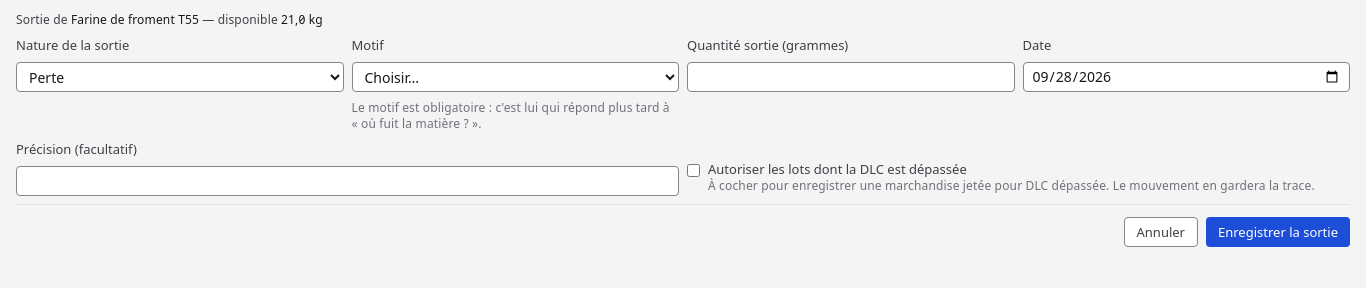
SaisieSortie — refus de saisie : aucun appel réseau ne part sur un formulaire incomplet › le refus de motif est bien atteignable — mais par Ctrl+S, pas par le bouton
Type "500" into the field labelled "Quantité sortie (grammes)" at (851, 77), box [687, 62, 1014, 92]
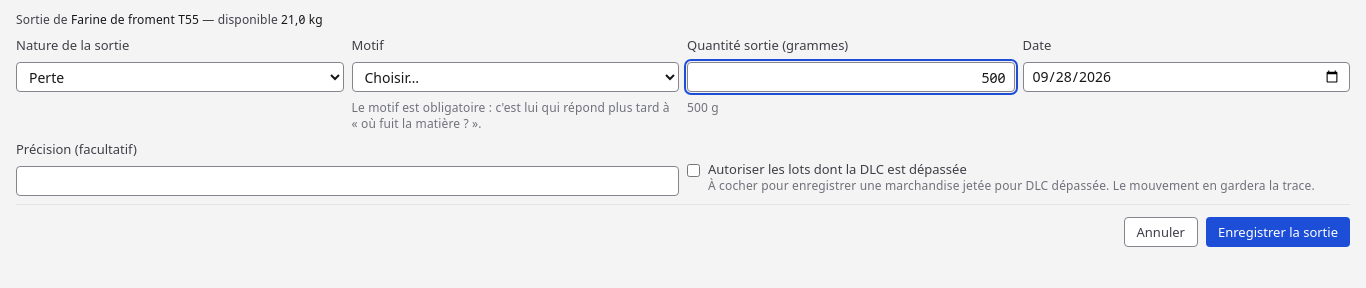
Type keys "{Control>}s{/Control}"
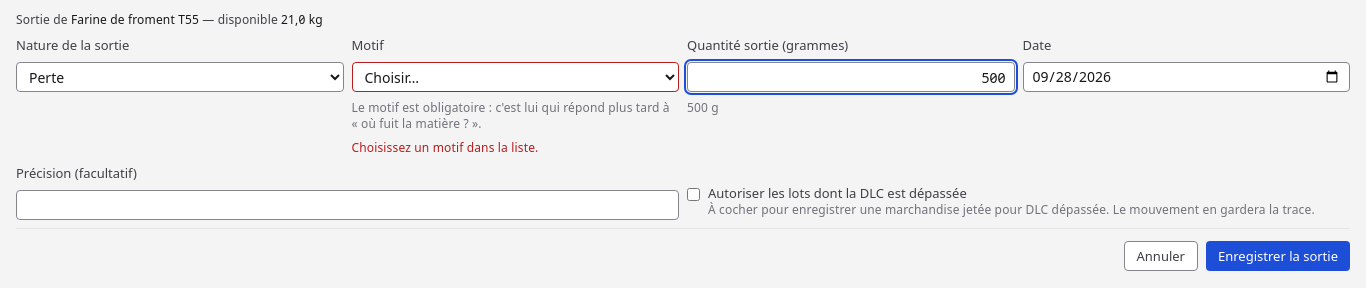
Expected: the text "Choisissez un motif dans la liste." is shown, [352, 139, 538, 156]
